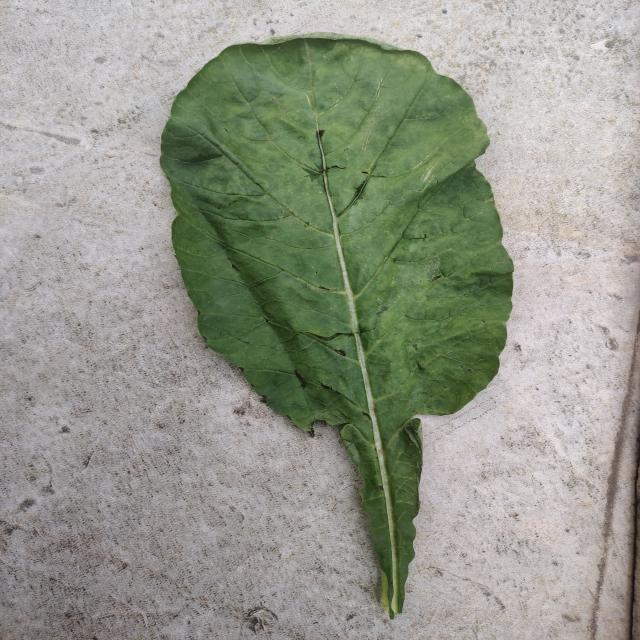black root rot raddish: (160, 34, 513, 618)
